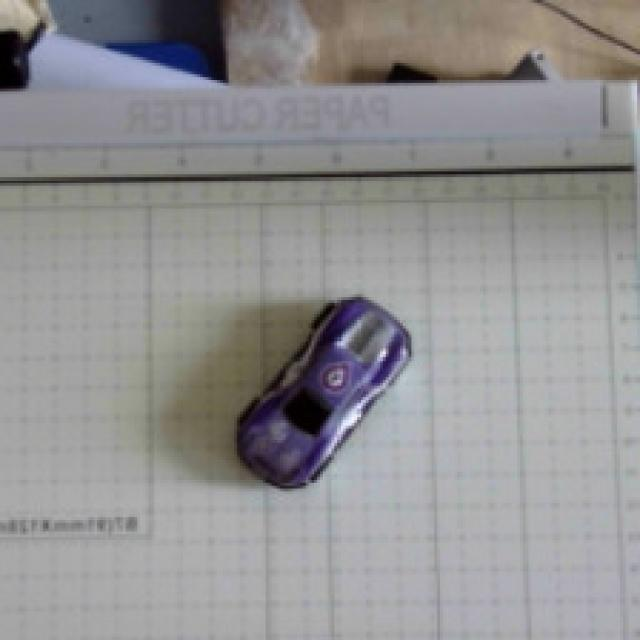Purple Car: (167, 254, 454, 518)
